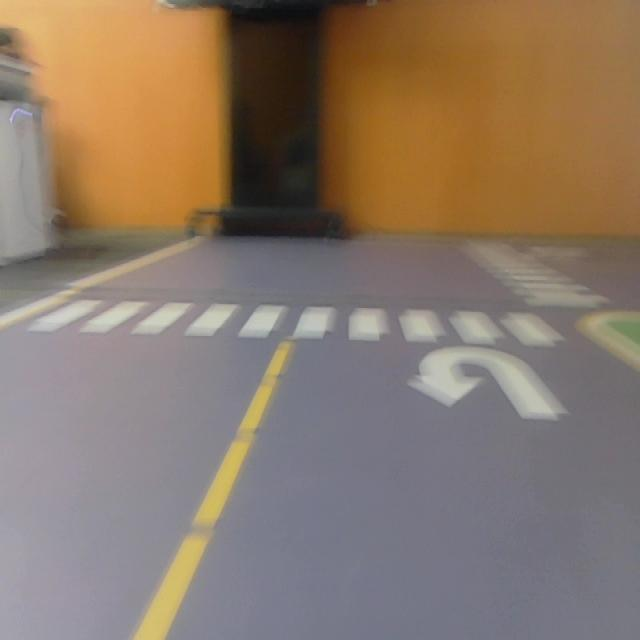left_lane: (133, 345, 292, 640)
right_lane: (577, 320, 640, 382)
